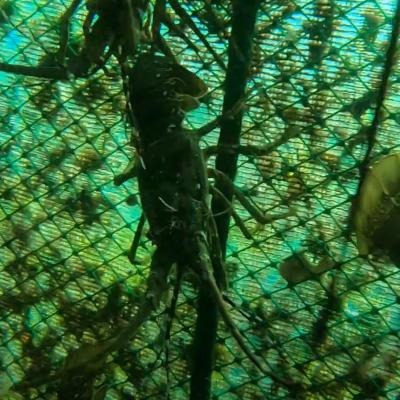lobster: (120, 56, 232, 302)
